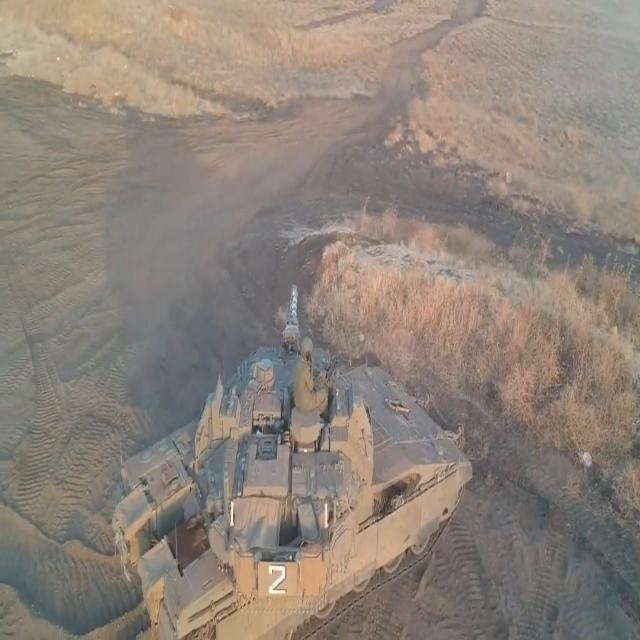tank: (92, 272, 475, 640)
